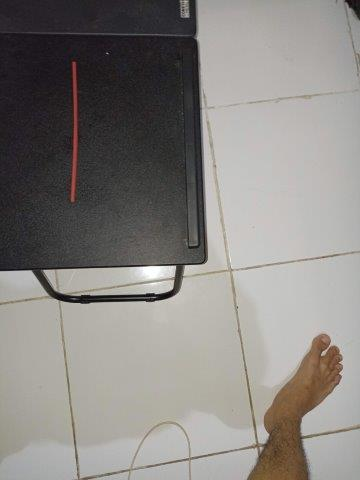sedotan: (69, 62, 78, 201)
